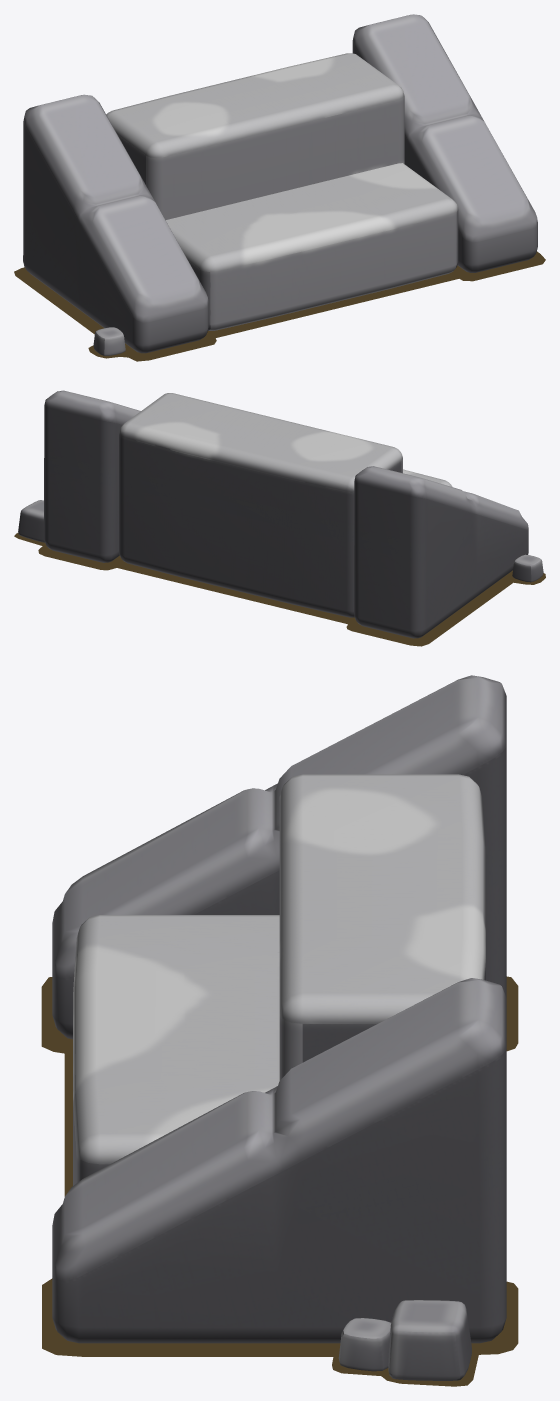
The model's file is RockStair01.fbx.
3 views of the same model, one above another, from view 1: azimuth 30°, elevation 25°; view 2: azimuth 150°, elevation 25°; view 3: azimuth 270°, elevation 25° (orthographic). The views are drawn at different scales.
Visible parts, largest first — view 1: polySurface2, polySurface1; view 2: polySurface2, polySurface1; view 3: polySurface2, polySurface1.
Boxes of the visible parts, bbox=[...] form: polySurface2: bbox=[23, 14, 537, 355]; polySurface1: bbox=[14, 251, 545, 361]; polySurface2: bbox=[18, 390, 543, 638]; polySurface1: bbox=[14, 533, 545, 646]; polySurface2: bbox=[52, 675, 506, 1380]; polySurface1: bbox=[41, 976, 518, 1386].
Size of the model in its own units: 225 by 77.28 by 105.
